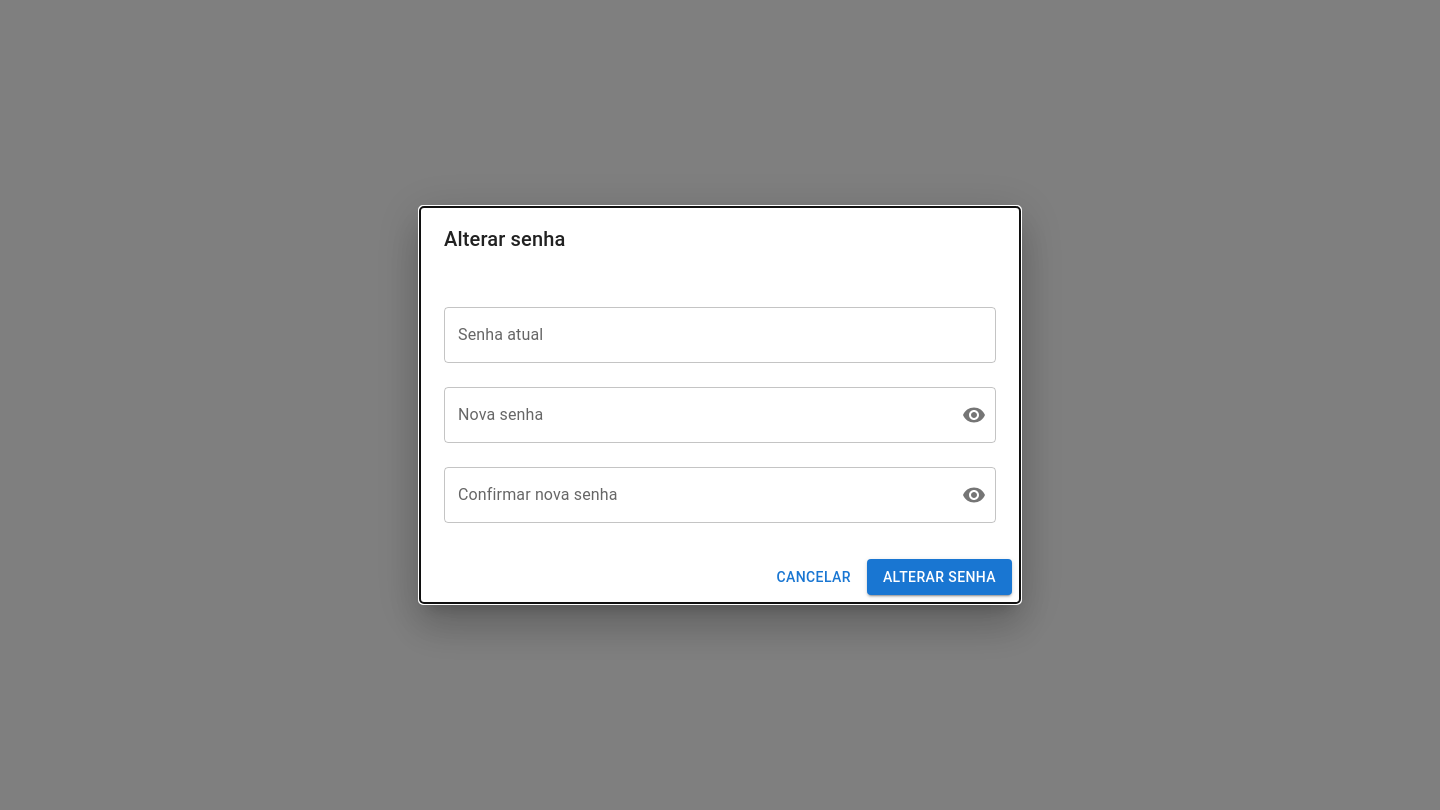
Test: AlterarSenhaDialog › shows validation when passwords mismatch
Type "oldpass" into the password field labelled "Senha atual" at [720, 335], box [444,307,996,363]
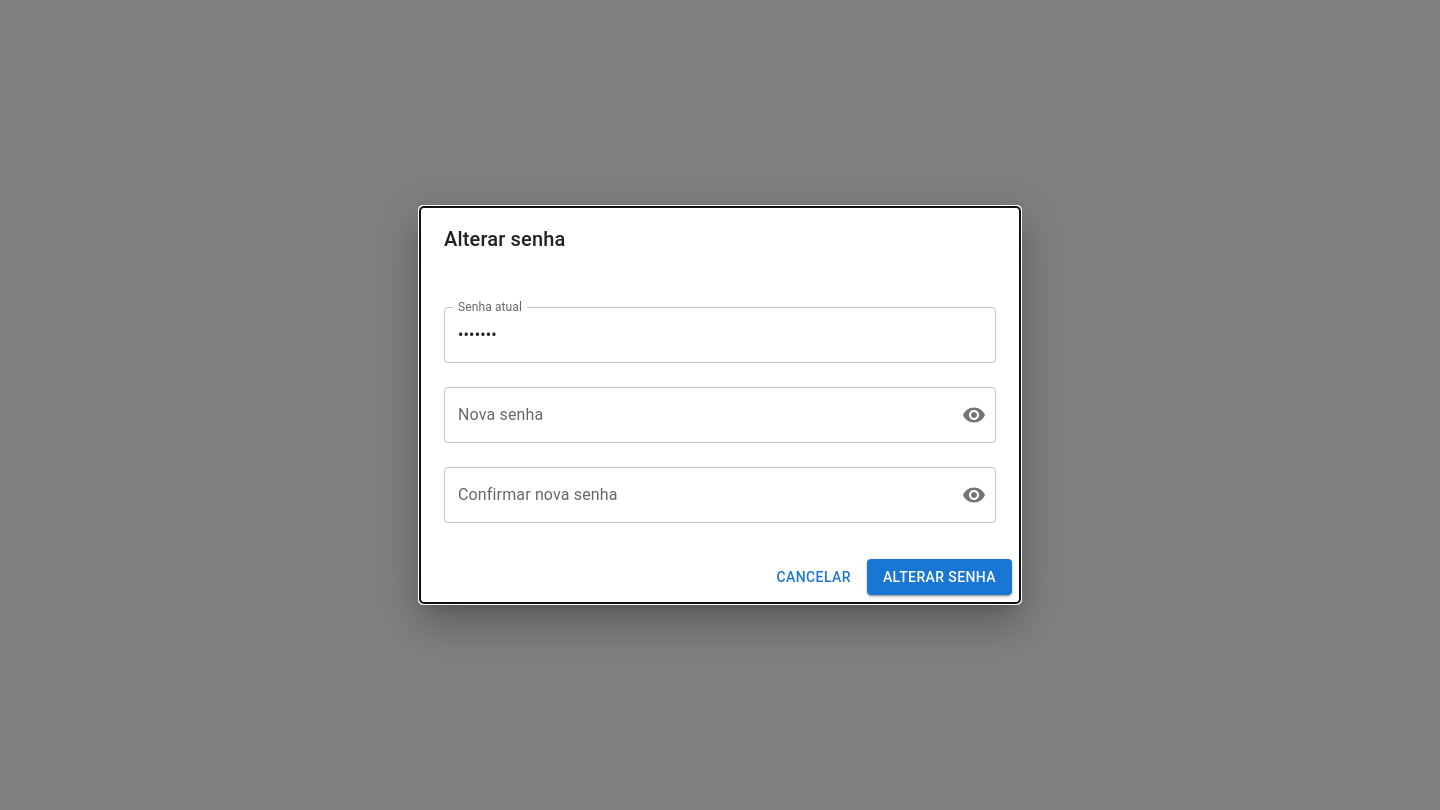
Type "secret1" into the password field labelled "Nova senha" at [695, 415], box [444,387,946,443]
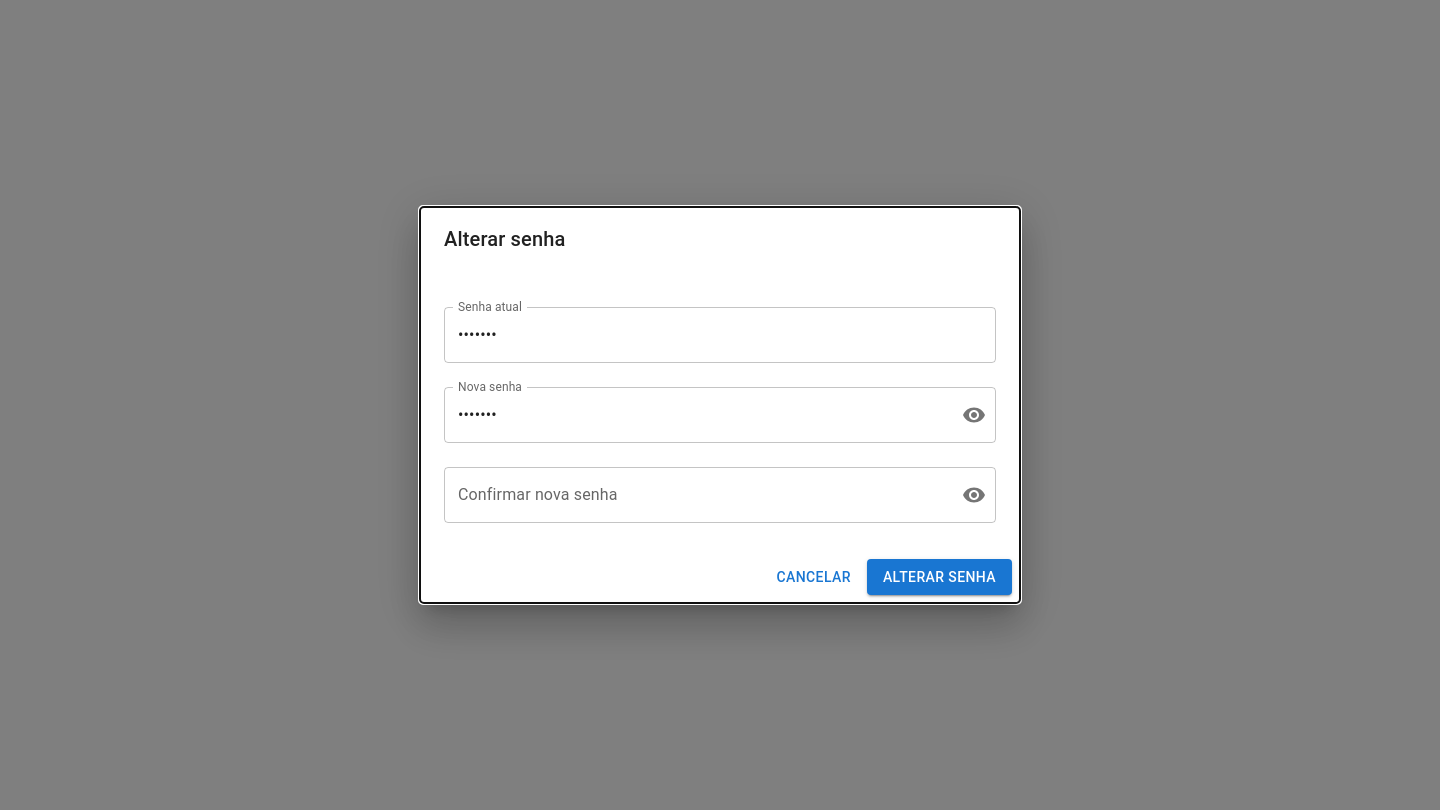
Type "other" into the password field labelled "Confirmar nova senha" at [695, 495], box [444,467,946,523]
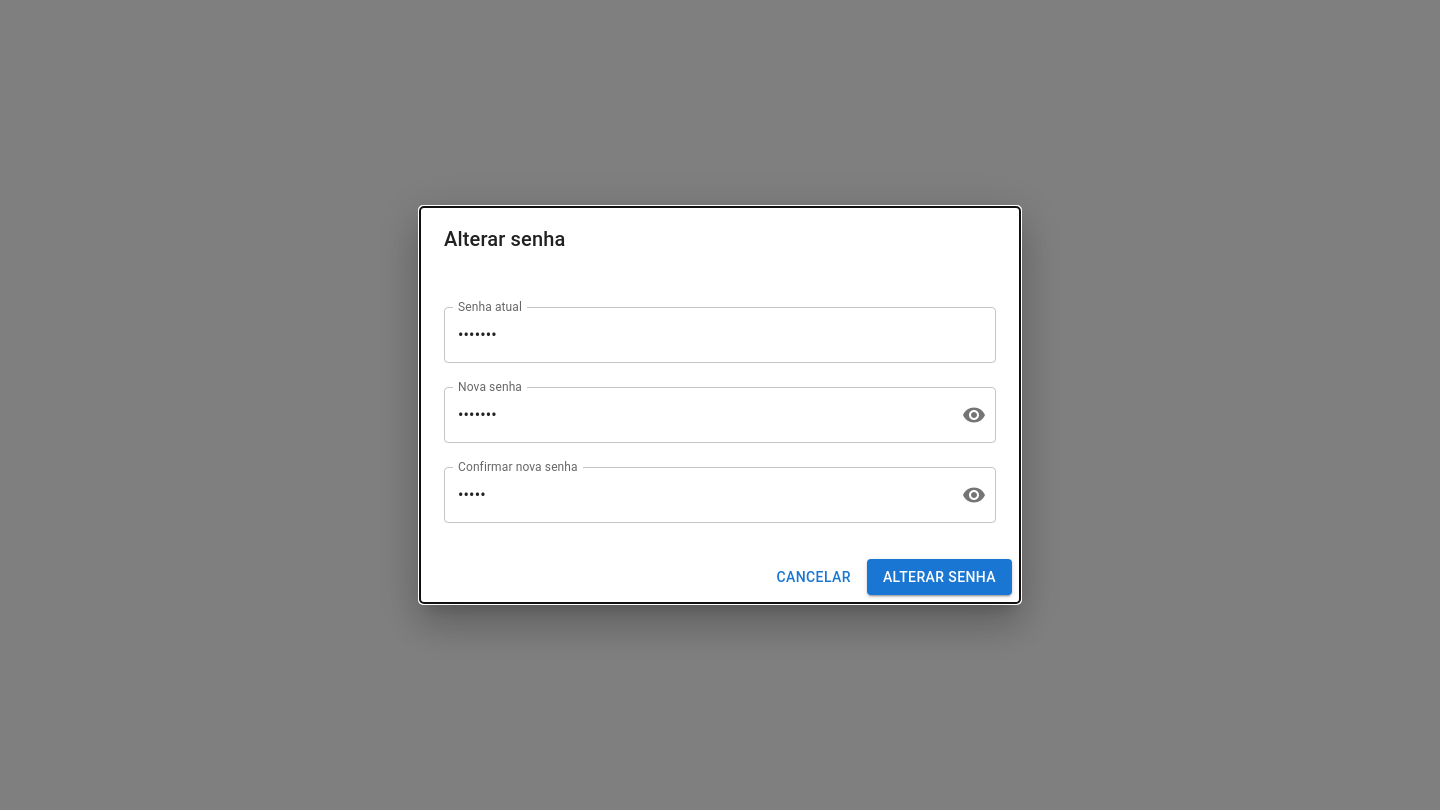
Click the button "Alterar senha" at [939, 577], box [867,559,1012,595]
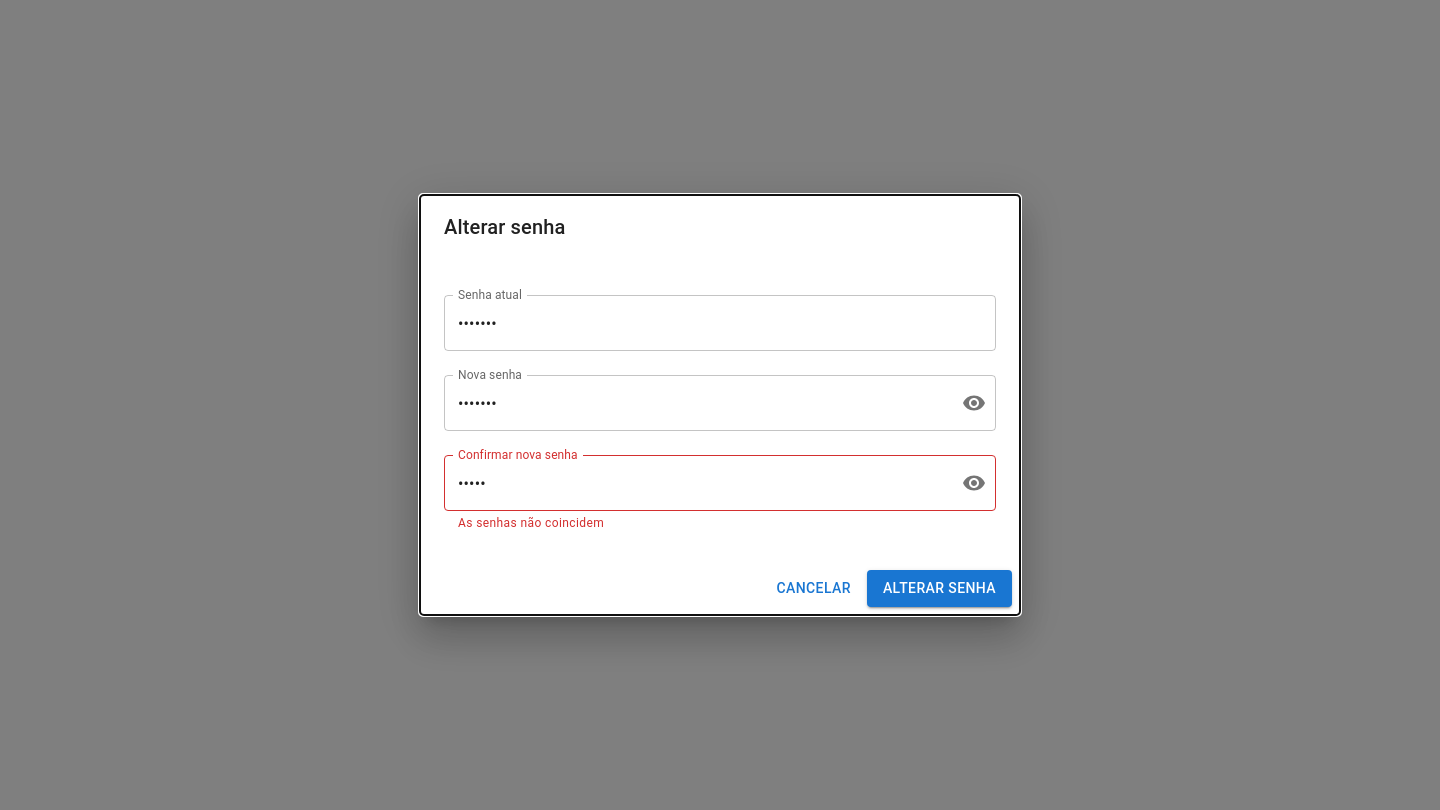
Check: the text "As senhas não coincidem" is shown, box [458,516,604,530]
